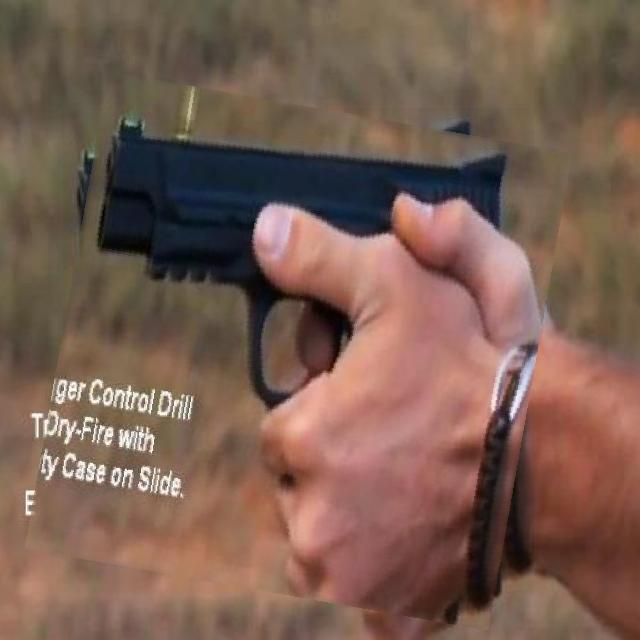handgun: (44, 89, 554, 612)
